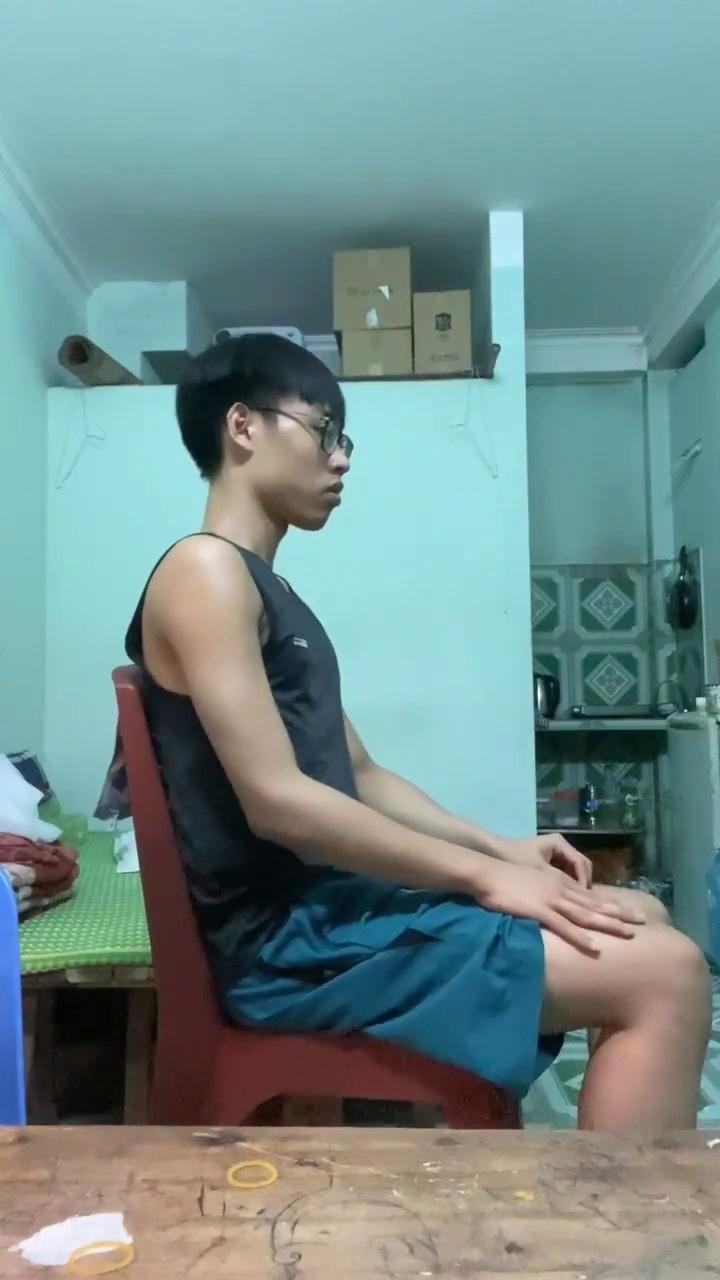GoodPosture: (138, 334, 710, 1083)
